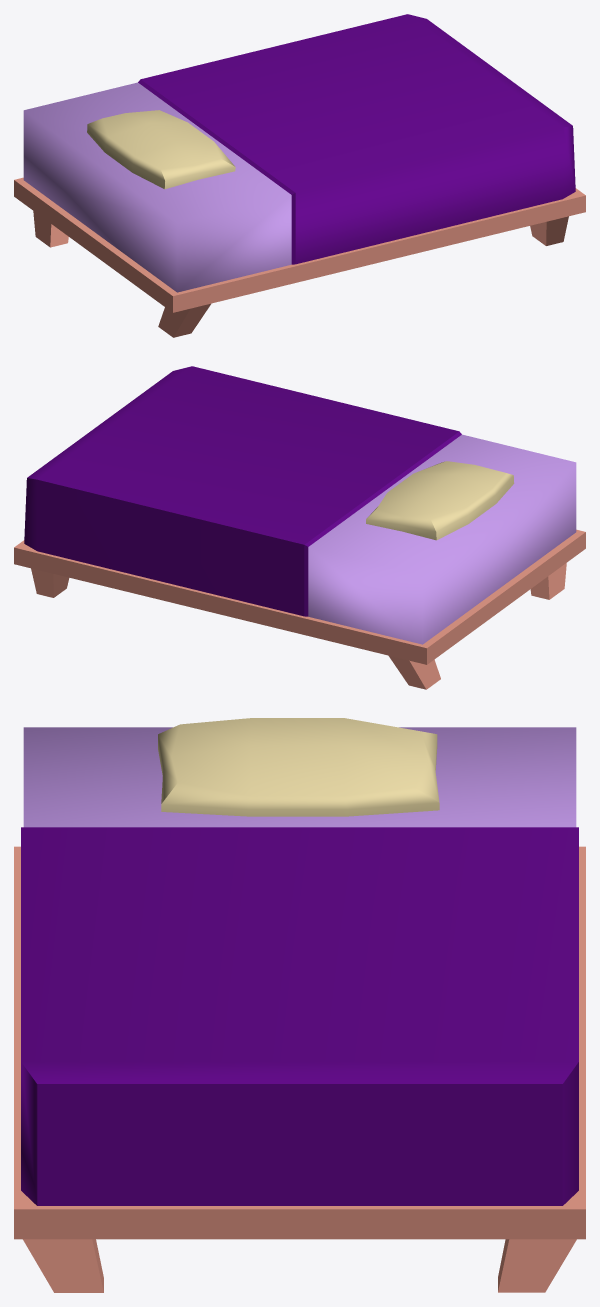
Rendered from bed.fbx.
3 renders of one model, top to bottom at view 1: azimuth 30°, elevation 25°; view 2: azimuth 150°, elevation 25°; view 3: azimuth 270°, elevation 25°, orthographic. The views are drawn at different scales.
Visible parts, largest first — view 1: pCube28; view 2: pCube28; view 3: pCube28.
Boxes of the visible parts, x1,y1,x2,y2 form: pCube28: (14,14,585,337); pCube28: (14,366,585,689); pCube28: (14,718,585,1292).
Bounding box in the file's own units: 186 × 60.83 × 124.
